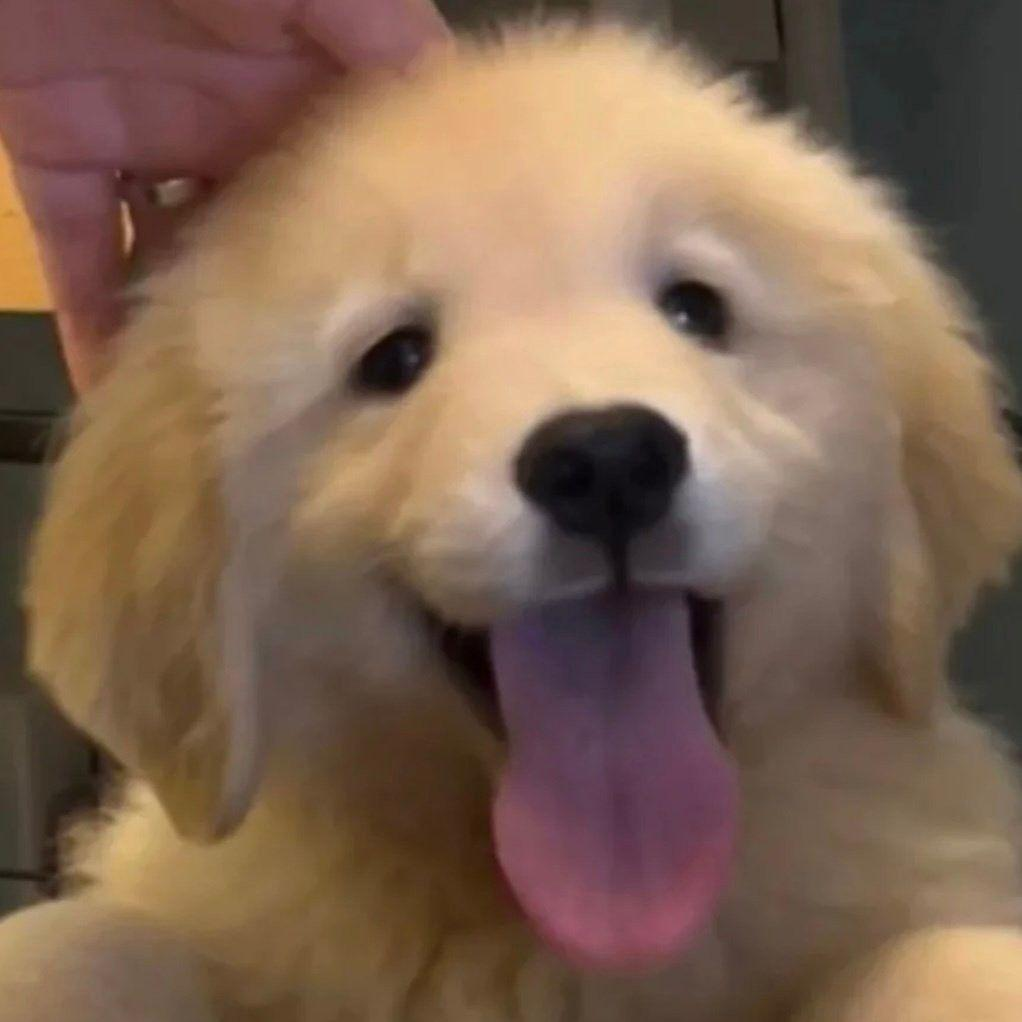puppy-dog: (0, 28, 1022, 1022)
